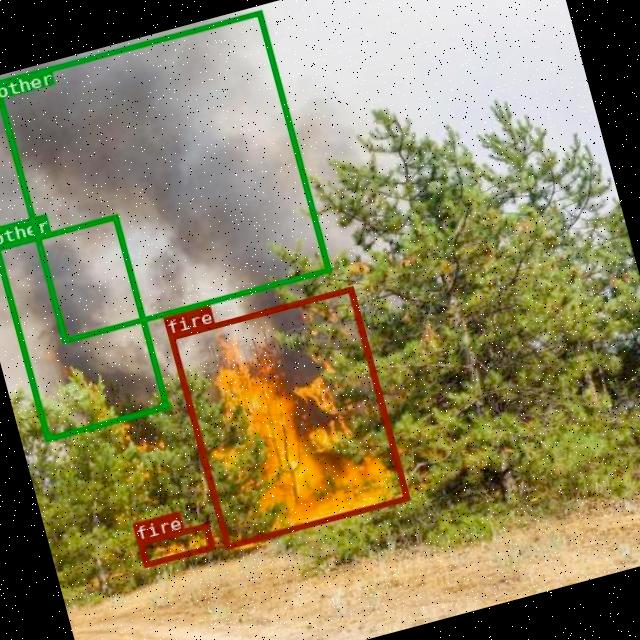fire: (166, 284, 408, 548), (136, 521, 214, 566)
